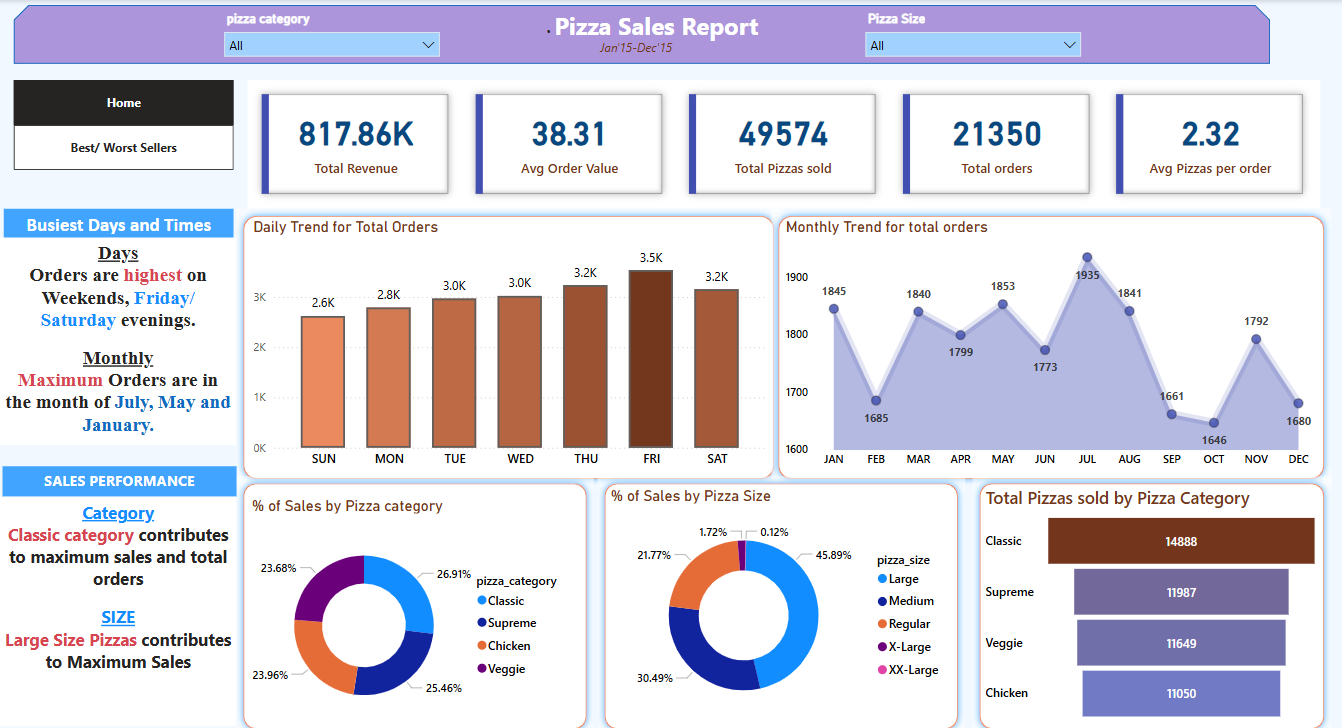

The page's visual inventory and layout, read from the dashboard file:
{"tool":"powerbi","page":{"name":"Home","canvas":[1500,820],"ordinal":0},"visuals":[{"type":"textbox","box":[4.2,232.6,256.3,39],"z":0},{"type":"textbox","box":[0,264.6,263.2,231.2],"z":1000},{"type":"cardVisual","fields":{"Data":["pizza_sales_excel_file.Total Revenue","pizza_sales_excel_file.Avg Order Value","pizza_sales_excel_file.Total Pizzas sold","pizza_sales_excel_file.Total orders","pizza_sales_excel_file.Avg Pizzas per order"]},"box":[275.7,89.1,1194.9,143.4],"z":2000},{"type":"shape","box":[15.3,5.6,1399.6,65.5],"z":3000},{"type":"textbox","box":[573.8,5.6,296.6,83.6],"z":4000},{"type":"textbox","box":[628.1,39,161.5,32],"z":5000},{"type":"shape","box":[263.2,232.6,607.2,309.2],"z":6000},{"type":"clusteredColumnChart","title":"Daily Trend for Total Orders","fields":{"Category":["pizza_sales_excel_file.Order day"],"Y":["pizza_sales_excel_file.Total orders"]},"box":[277.1,242.3,582.1,288.3],"z":7000},{"type":"shape","box":[859.3,232.6,623.9,309.2],"z":8000},{"type":"areaChart","title":"Monthly Trend for total orders","fields":{"Category":["pizza_sales_excel_file.Order Month"],"Y":["pizza_sales_excel_file.Total orders"]},"box":[870.4,242.3,600.2,288.3],"z":9000},{"type":"shape","box":[263.2,530.6,398.3,289.7],"z":10000},{"type":"shape","box":[665.7,530.6,409.4,289.7],"z":11000},{"type":"shape","box":[1083.5,530.6,399.7,289.7],"z":12000},{"type":"donutChart","title":"% of Sales by Pizza category","fields":{"Category":["pizza_sales_excel_file.pizza_category"],"Y":["pizza_sales_excel_file.Total Revenue"]},"box":[275.7,552.9,371.8,267.4],"z":13000},{"type":"donutChart","title":"% of Sales by Pizza Size","fields":{"Category":["pizza_sales_excel_file.pizza_size"],"Y":["pizza_sales_excel_file.Total Revenue"]},"box":[675.4,541.7,388.6,267.4],"z":14000},{"type":"funnel","title":"Total Pizzas sold by Pizza Category","fields":{"Category":["pizza_sales_excel_file.pizza_category"],"Y":["pizza_sales_excel_file.Total Pizzas sold"]},"box":[1093.2,541.7,381.6,267.4],"z":15000},{"type":"slicer","fields":{"Values":["pizza_sales_excel_file.pizza_category"]},"box":[239.5,7,260.4,64.1],"z":16000},{"type":"textbox","box":[0,552.9,263.2,256.3],"z":17000},{"type":"textbox","box":[2.8,519.5,260.4,33.4],"z":18000},{"type":"slicer","fields":{"Values":["pizza_sales_excel_file.pizza_size"]},"box":[954,7,260.4,65.5],"z":19000},{"type":"pageNavigator","box":[15.3,89.1,245.1,50.1],"z":19001},{"type":"pageNavigator","box":[15.3,139.3,245.1,50.1],"z":19002}]}

Visuals, with their boxes in screenshot pixels (x1, y1, x2, y2), scaled from the page's 1500x820 canvas onto the 1342x728 screenshot:
textbox: l=4, t=207, r=233, b=241
textbox: l=0, t=235, r=235, b=440
cardVisual - pizza_sales_excel_file.Total Revenue x pizza_sales_excel_file.Avg Order Value: l=247, t=79, r=1316, b=206
shape: l=14, t=5, r=1266, b=63
textbox: l=513, t=5, r=779, b=79
textbox: l=562, t=35, r=706, b=63
shape: l=235, t=207, r=779, b=481
"Daily Trend for Total Orders" clusteredColumnChart: l=248, t=215, r=769, b=471
shape: l=769, t=207, r=1327, b=481
"Monthly Trend for total orders" areaChart: l=779, t=215, r=1316, b=471
shape: l=235, t=471, r=592, b=727
shape: l=596, t=471, r=962, b=727
shape: l=969, t=471, r=1327, b=727
"% of Sales by Pizza category" donutChart: l=247, t=491, r=579, b=727
"% of Sales by Pizza Size" donutChart: l=604, t=481, r=952, b=718
"Total Pizzas sold by Pizza Category" funnel: l=978, t=481, r=1319, b=718
slicer - pizza_sales_excel_file.pizza_category: l=214, t=6, r=447, b=63
textbox: l=0, t=491, r=235, b=718
textbox: l=3, t=461, r=235, b=491
slicer - pizza_sales_excel_file.pizza_size: l=854, t=6, r=1086, b=64
pageNavigator: l=14, t=79, r=233, b=124
pageNavigator: l=14, t=124, r=233, b=168
